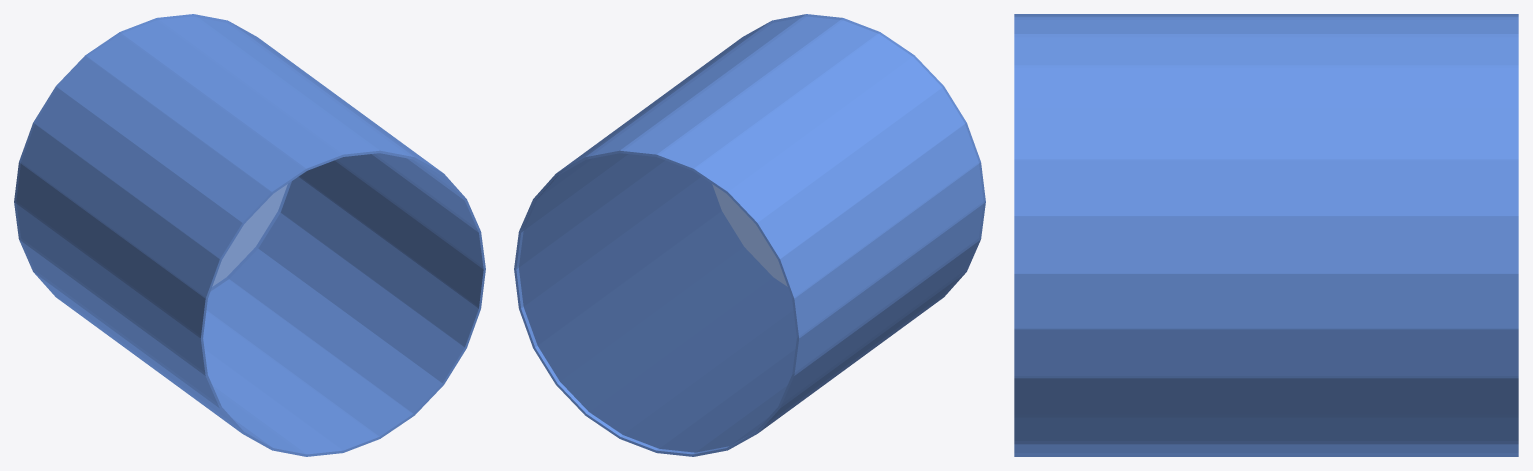
File: model_align.obj
3 renders of one model, left to right at view 1: azimuth 30°, elevation 25°; view 2: azimuth 150°, elevation 25°; view 3: azimuth 270°, elevation 25°, orthographic. The views are drawn at different scales.
Bounding box in the file's own units: 0.0852 × 0.0852 × 0.0967.
